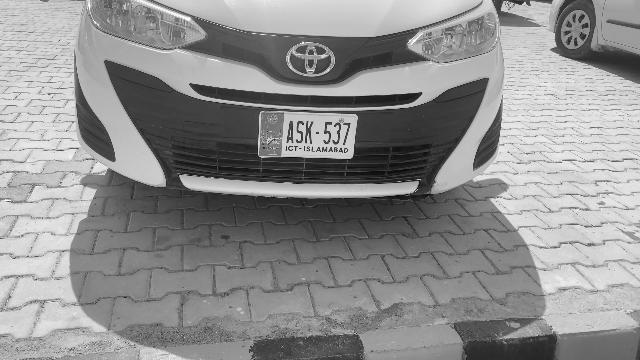Number: (283, 119, 353, 147)
